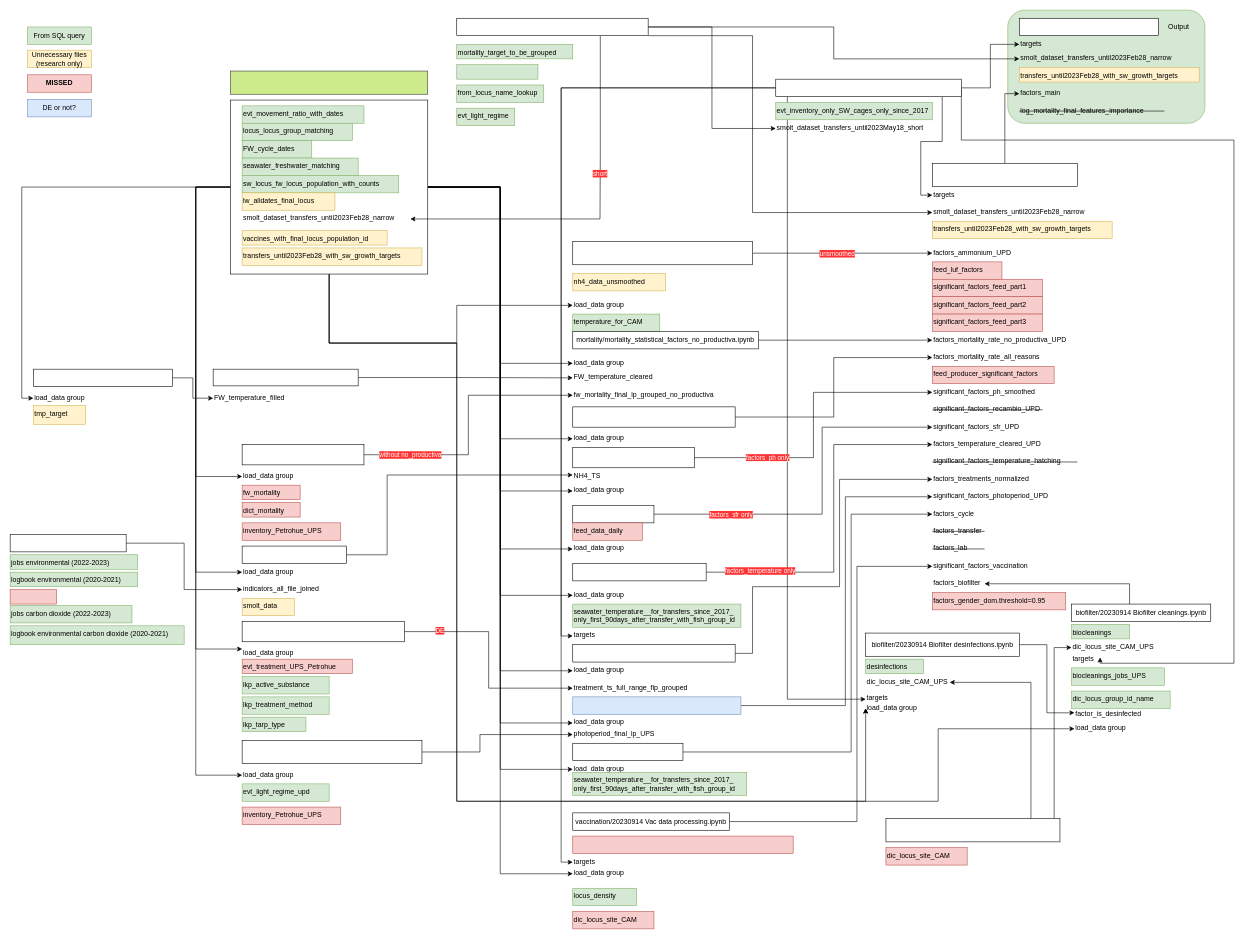
This 1249x939 diagram has some shape labels left out. The shapes that lost their labels are listed below. From the top down, each one's centre as x and y in pixels, then its label:
(x=552, y=27): base/20221222 Smolt performance Phase 3_copy.ipynb
(x=1089, y=27): modeling/predictive_model_mortality.ipynb:
(x=329, y=82): load_data group in multiple notebooks
(x=497, y=71): eb_stocking_edited2
(x=868, y=88): base/20230712 Target comparison_only_mortality_nSFR:
(x=1004, y=174): modeling/factors_ranking_log_mortality.ipynb
(x=662, y=253): ammonium/factors_ammonium_unsmoothed.ipynb
(x=103, y=378): temperature/FW_temperature_filled.ipynb
(x=285, y=377): temperature/FW_temperature_cleared.ipynb
(x=653, y=416): mortality/mortality_reason_statistical_factors.ipynb
(x=303, y=454): mortality/preprocess_reason.ipynb
(x=633, y=457): ammonium/factors_nh4_upd.ipynb
(x=613, y=514): feed/feed_daily_sfr.ipynb
(x=68, y=543): enviromental/Env_analisys.ipynb
(x=294, y=554): ammonium/NH4_upd.ipynb
(x=639, y=572): temperature/temperature_findings.ipynb
(x=33, y=596): dict_env
(x=323, y=631): treatment/treatment_analysis_DE_upd_work.ipynb
(x=653, y=653): treatments/treatment_statistical_factors_DE.ipynb
(x=656, y=705): photoperiod/photoperiod_factors_UPS_ DE .ipynb
(x=332, y=752): photoperiod/photoperiod_processing_with_count.ipynb
(x=627, y=752): cycle/fw_cycle_length_work.ipynb
(x=682, y=844): vaccines_with_final_locus_population_id_transfers_until_Jun2023
(x=972, y=830): smolt quality index/20230906 SQ Index analysis.ipynb
